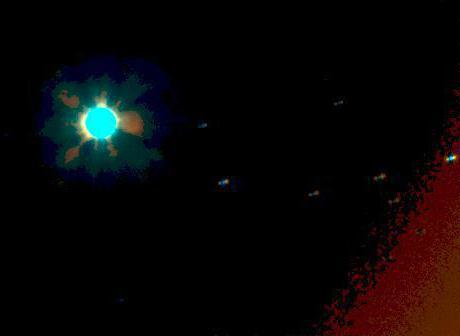star: (85, 87, 115, 117)
